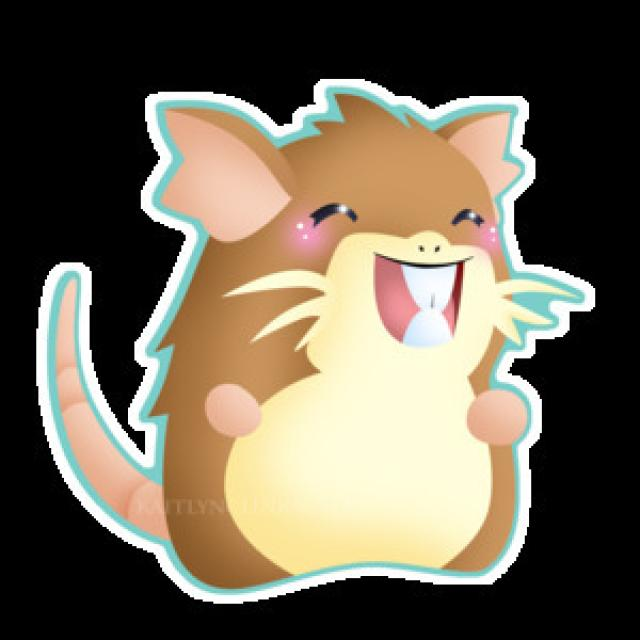Raticate: (123, 67, 553, 592)
